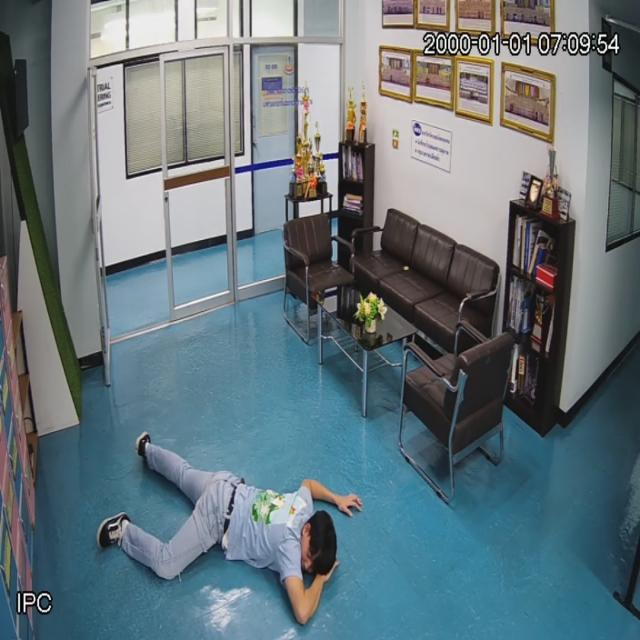fall: (96, 431, 356, 623)
